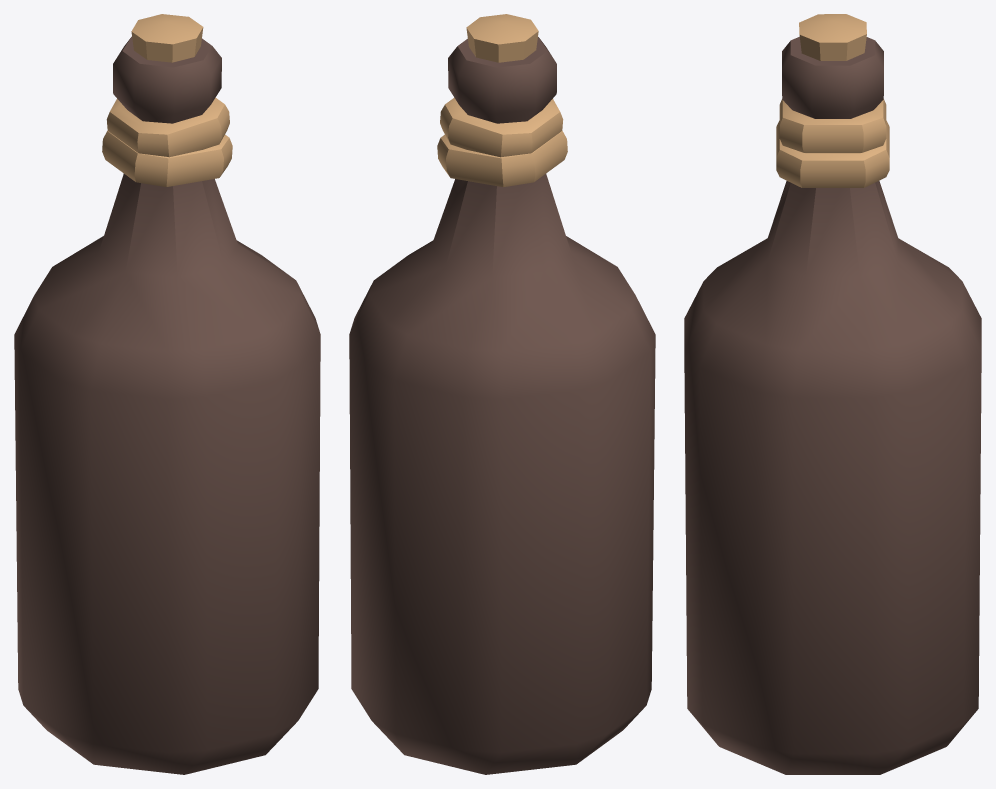
The model's file is ale_bottle_A.gltf.glb.
3 views of the same model, side by side, from view 1: azimuth 30°, elevation 25°; view 2: azimuth 150°, elevation 25°; view 3: azimuth 270°, elevation 25° (orthographic).
Parts seen in each view (by area): view 1: ale_bottle_A; view 2: ale_bottle_A; view 3: ale_bottle_A.
Part boxes in pixels (left/top/right/bottom): ale_bottle_A: left=14, top=14, right=320, bottom=774; ale_bottle_A: left=349, top=14, right=655, bottom=774; ale_bottle_A: left=684, top=14, right=981, bottom=774.
Bounding box in the file's own units: 0.3126 × 0.8184 × 0.3126.
